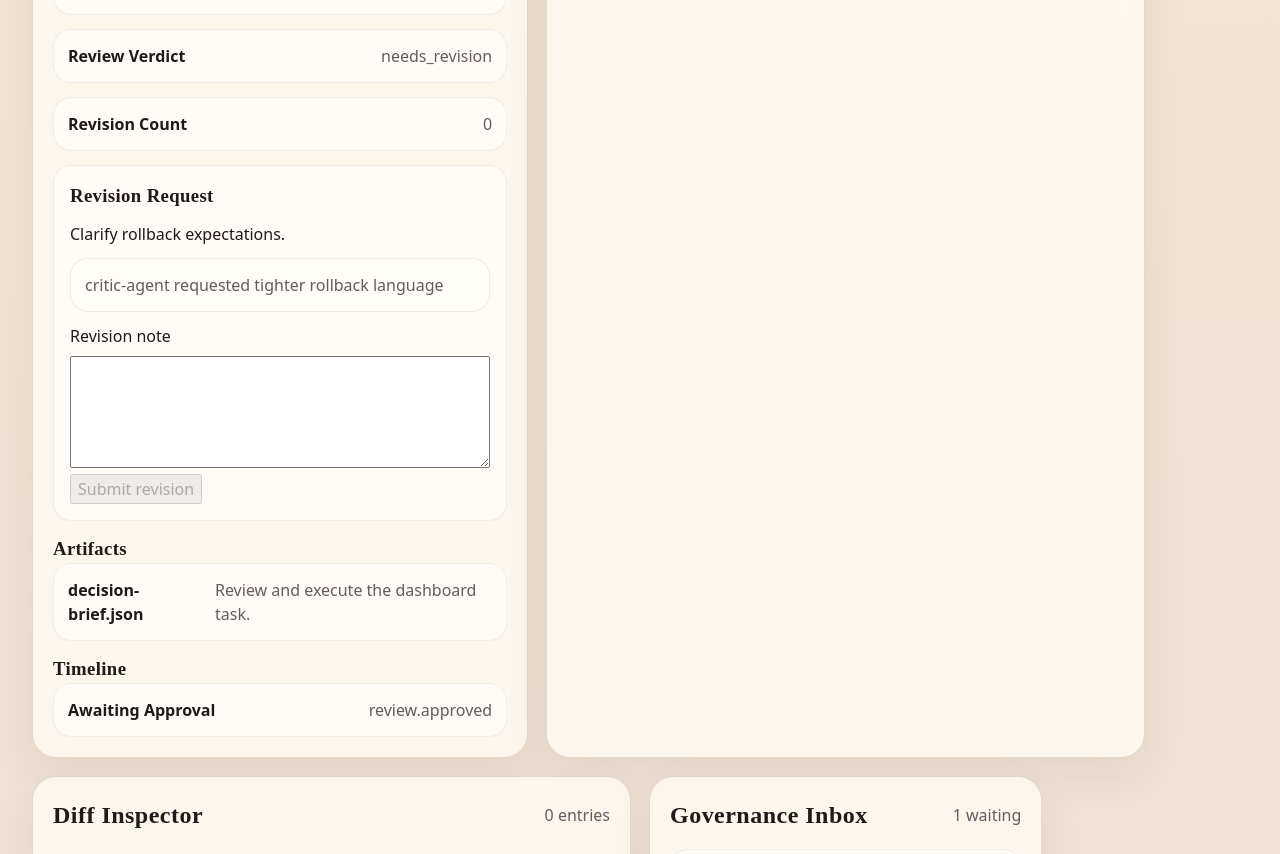
Test: App › submits revision notes from task detail
(page scrolled)
Type "Revision note: tighten rollback scope." into the text box labelled "Revision note".
click(280, 412); type("Revision note: tighten rollback scope.")  # box [70,356,490,468]
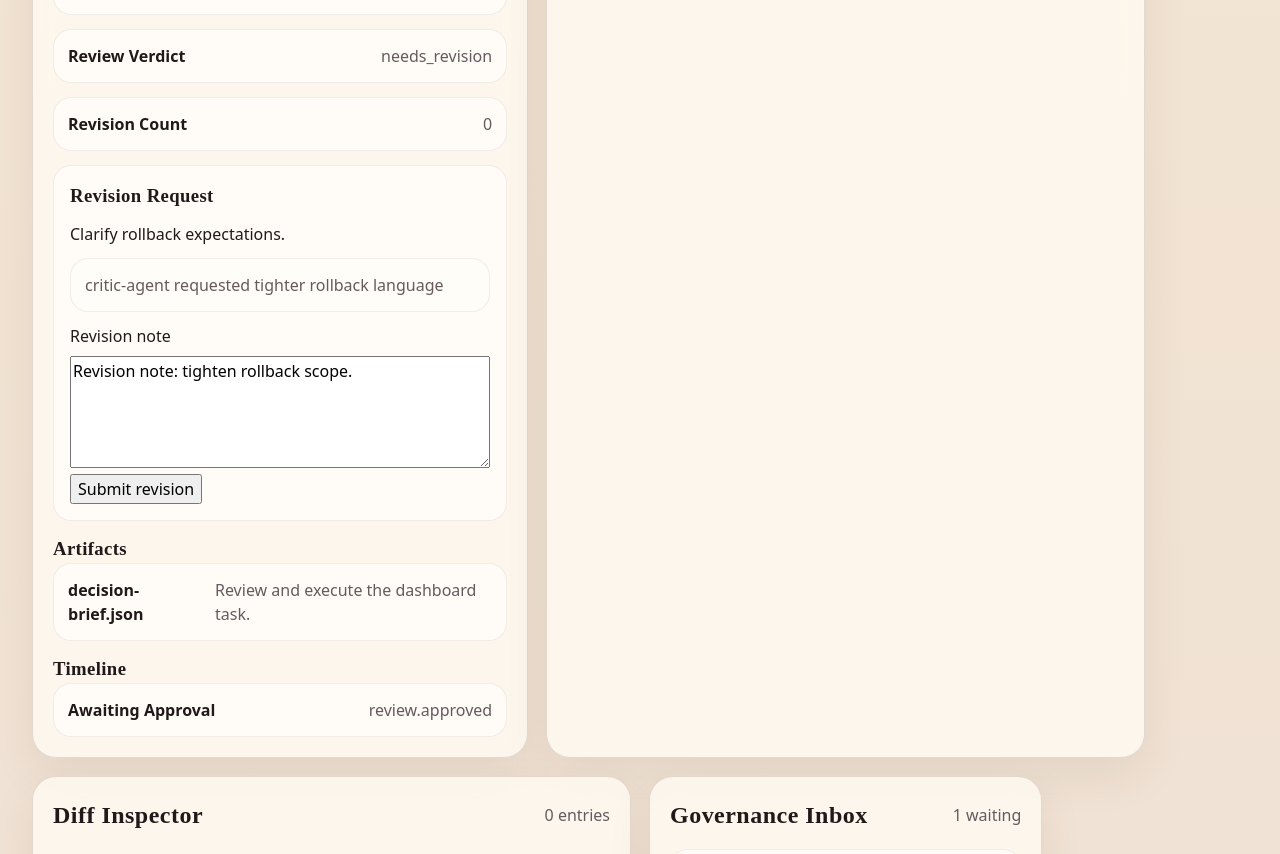
Click the button "Submit revision".
click(136, 489)  # box [70,474,202,504]
(page scrolled)
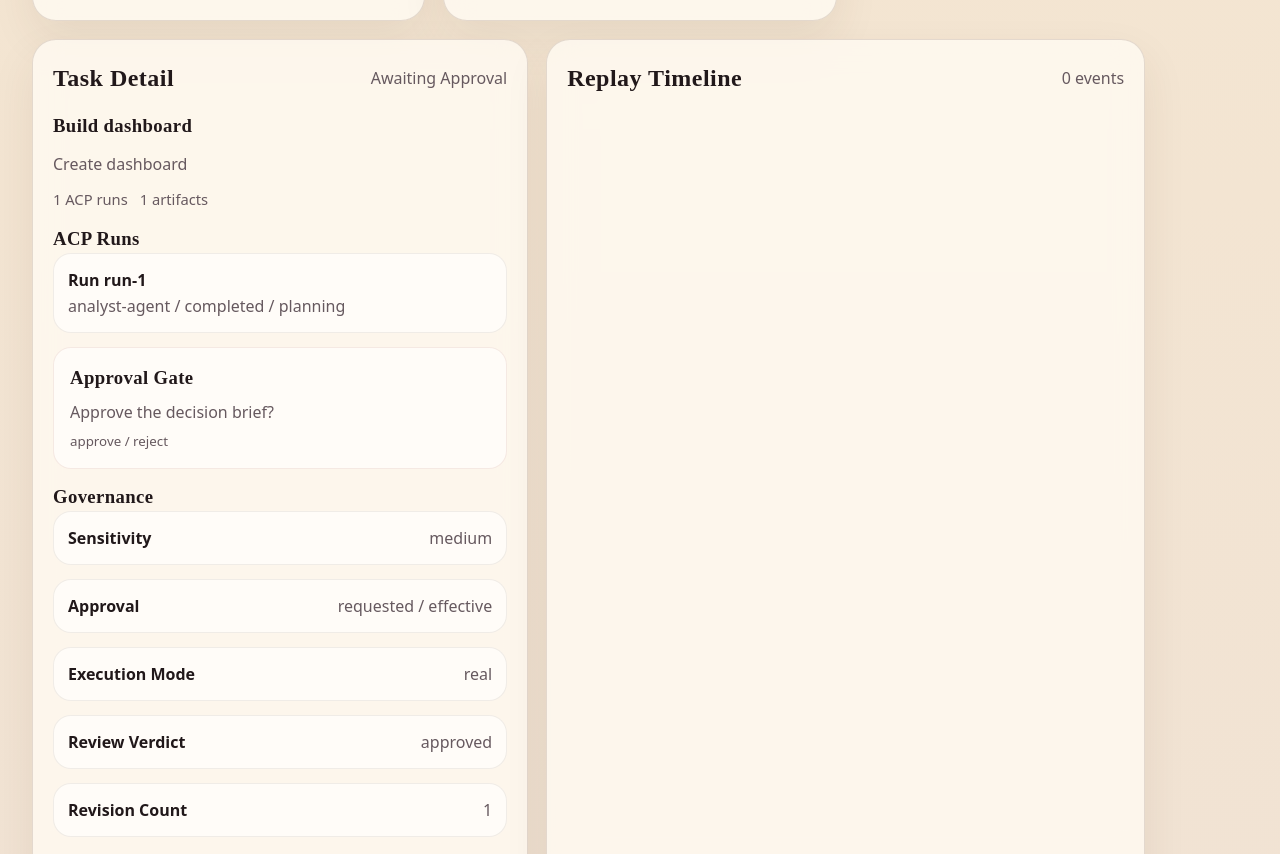
Check: the text "Approve the decision brief?" is shown, box [70,401,274,423]
